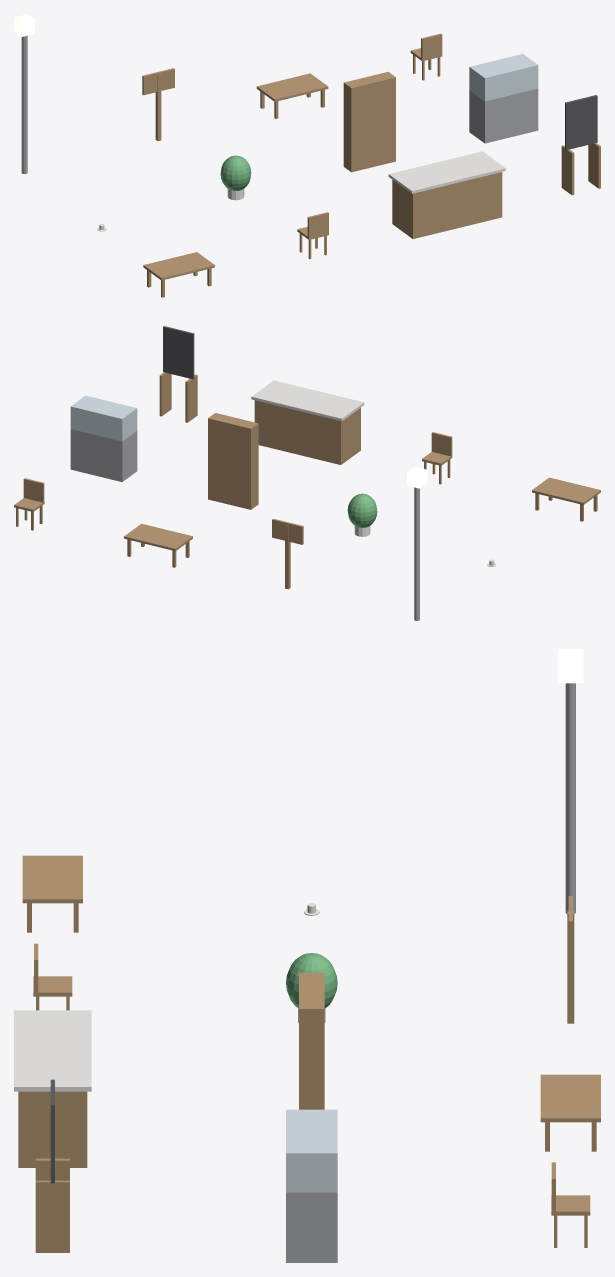
The model's file is donuttycoon_bakery_furniture.glb.
3 views of the same model, one above another, from view 1: azimuth 30°, elevation 25°; view 2: azimuth 150°, elevation 25°; view 3: azimuth 270°, elevation 25° (orthographic). The views are drawn at different scales.
Parts seen in each view (by area): view 1: Counter_01, PastryDisplay_01, Shelf_01, MenuBoard_01, Table_02, Table_01, Lamp_01, Plant_01, Sign_01, Chair_01, Chair_02; view 2: Counter_01, PastryDisplay_01, Shelf_01, MenuBoard_01, Table_02, Table_01, Lamp_01, Plant_01, Chair_02, Sign_01, Chair_01; view 3: Counter_01, PastryDisplay_01, MenuBoard_01, Shelf_01, Lamp_01, Table_01, Table_02, Plant_01, Chair_02, Chair_01, Sign_01.
Part boxes in pixels (bbox=[...]): Counter_01: bbox=[388, 151, 505, 238]; PastryDisplay_01: bbox=[469, 54, 538, 143]; Shelf_01: bbox=[343, 71, 395, 172]; MenuBoard_01: bbox=[561, 95, 600, 195]; Table_02: bbox=[256, 73, 328, 118]; Table_01: bbox=[143, 252, 214, 297]; Lamp_01: bbox=[14, 14, 34, 174]; Plant_01: bbox=[220, 155, 251, 200]; Sign_01: bbox=[142, 68, 174, 141]; Chair_01: bbox=[297, 212, 328, 259]; Chair_02: bbox=[410, 33, 442, 80]; Counter_01: bbox=[251, 380, 364, 464]; PastryDisplay_01: bbox=[70, 395, 137, 481]; Shelf_01: bbox=[208, 413, 258, 509]; MenuBoard_01: bbox=[159, 326, 197, 422]; Table_02: bbox=[124, 523, 192, 567]; Table_01: bbox=[532, 477, 600, 521]; Lamp_01: bbox=[407, 466, 427, 620]; Plant_01: bbox=[347, 493, 377, 536]; Chair_02: bbox=[14, 478, 44, 530]; Sign_01: bbox=[272, 518, 303, 589]; Chair_01: bbox=[422, 432, 452, 484]; Counter_01: bbox=[14, 1010, 91, 1167]; PastryDisplay_01: bbox=[286, 1109, 337, 1262]; MenuBoard_01: bbox=[35, 1079, 69, 1252]; Shelf_01: bbox=[299, 972, 324, 1109]; Lamp_01: bbox=[558, 649, 583, 913]; Table_01: bbox=[22, 855, 82, 932]; Table_02: bbox=[540, 1074, 600, 1151]; Plant_01: bbox=[286, 953, 337, 1022]; Chair_02: bbox=[551, 1162, 590, 1247]; Chair_01: bbox=[33, 943, 72, 1010]; Sign_01: bbox=[567, 896, 574, 1023].
Size of the model in its own units: 10.2 by 3.3 by 6.8.
